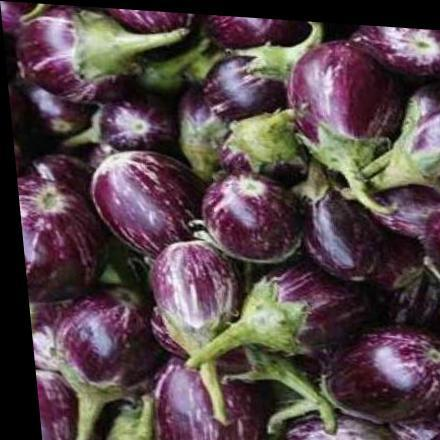eggplant: (5, 0, 439, 439)
